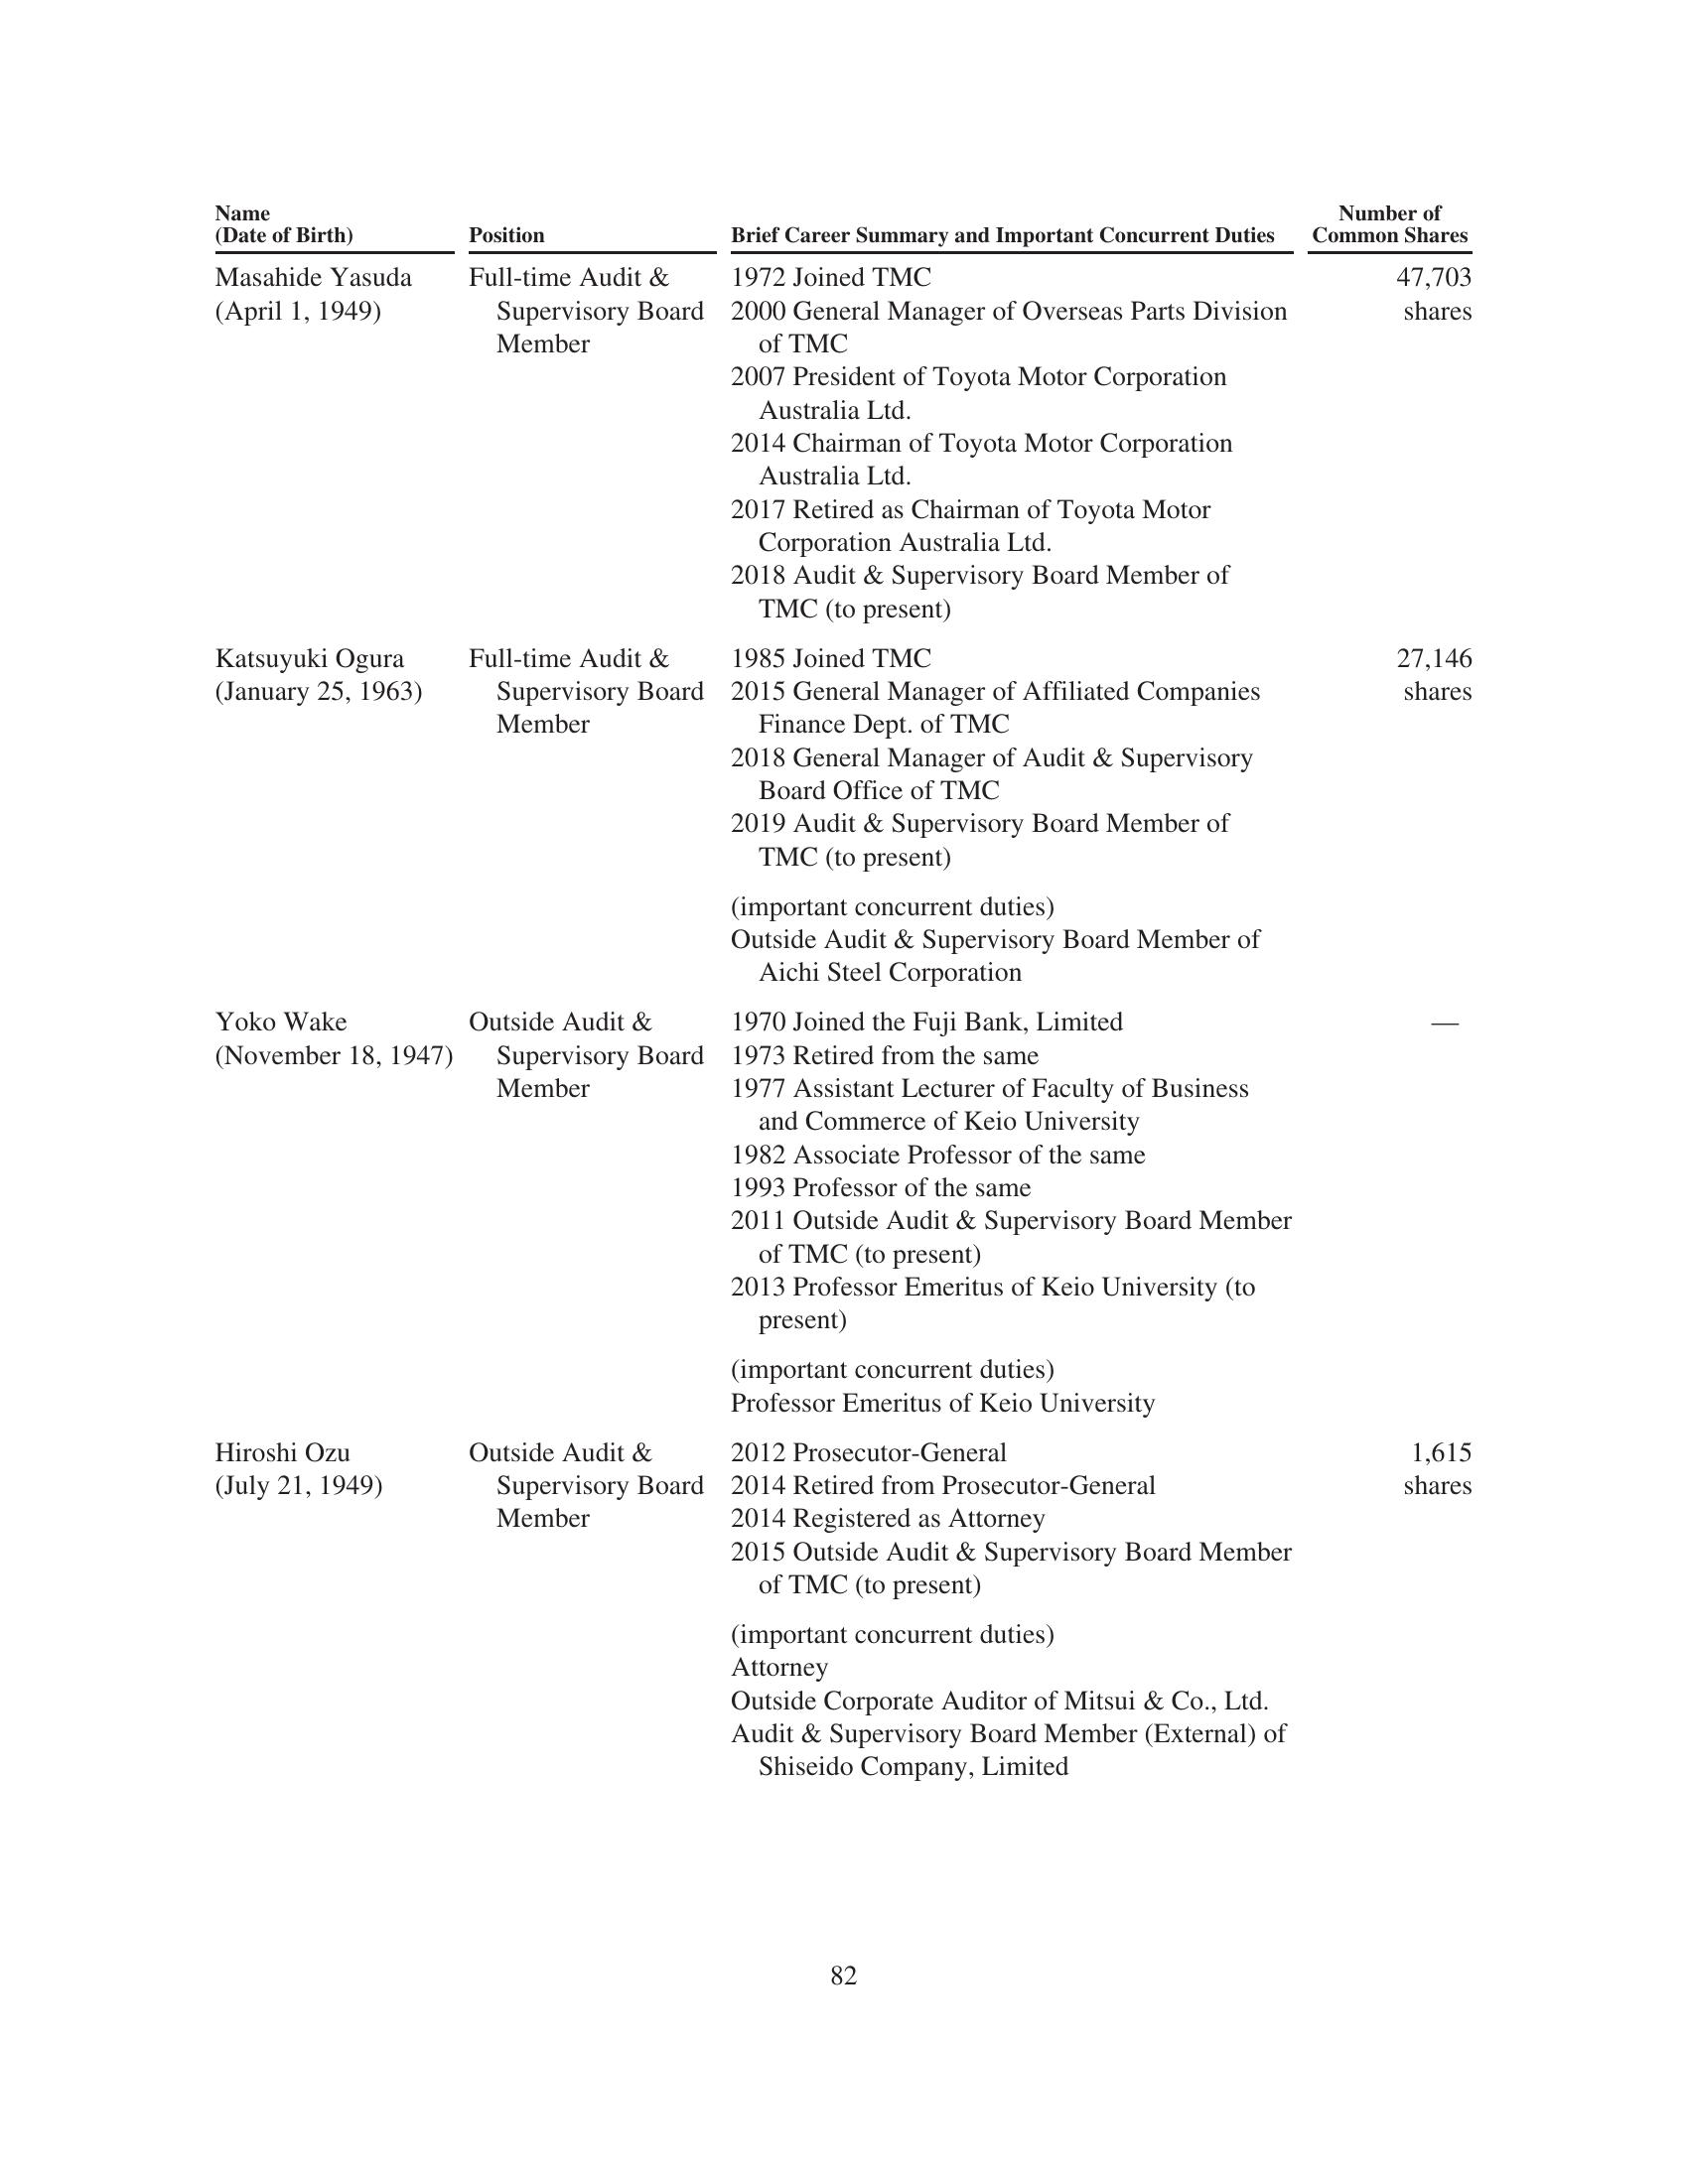Footer: (0, 1946, 1688, 2184)
Header: (0, 0, 1688, 188)
Table: (160, 200, 1546, 1826)
